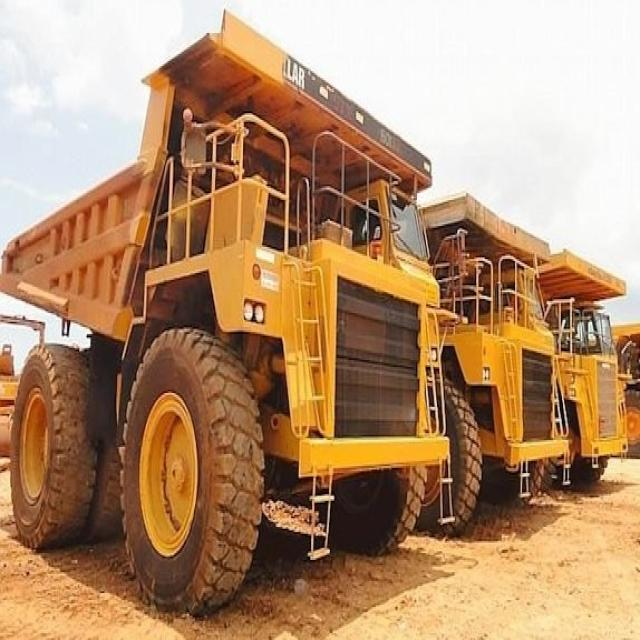dump_truck: (2, 7, 450, 628), (434, 177, 572, 560)
